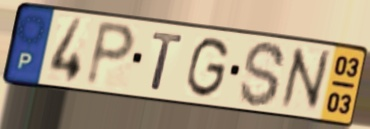4: (46, 15, 85, 87)
G: (183, 35, 231, 101)
N: (278, 45, 333, 113)
P: (82, 18, 138, 90)
S: (237, 39, 289, 109)
T: (149, 29, 186, 94)
